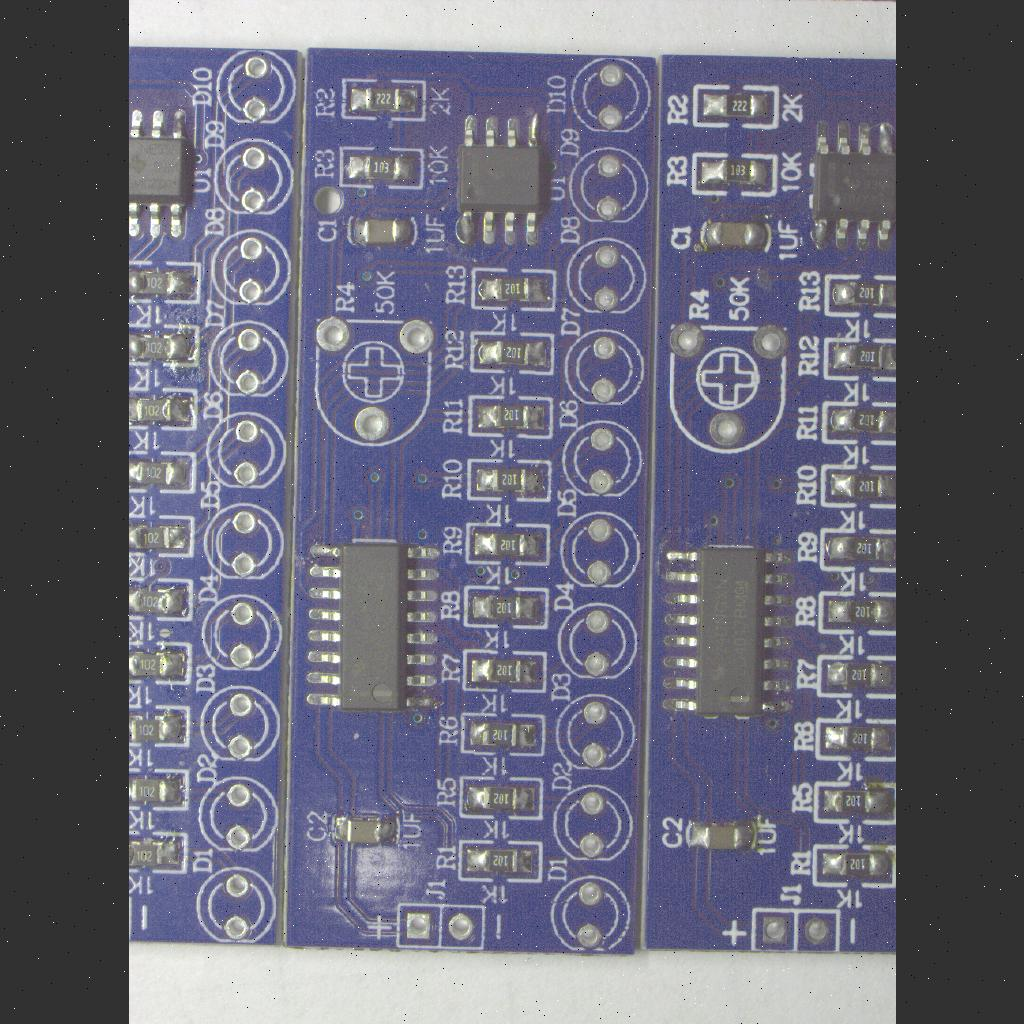OK: (654, 538, 802, 726), (298, 538, 446, 716), (449, 108, 553, 254), (804, 110, 896, 260), (128, 100, 202, 246), (462, 518, 552, 570), (690, 82, 782, 132), (458, 646, 550, 696), (466, 267, 560, 315), (464, 329, 558, 377), (689, 150, 777, 200), (466, 392, 556, 440), (463, 457, 553, 505), (456, 774, 546, 822), (336, 144, 426, 192), (456, 836, 546, 884), (460, 584, 550, 632), (456, 712, 548, 758), (336, 78, 428, 124), (818, 460, 896, 514), (812, 779, 896, 829), (810, 842, 896, 890), (816, 589, 896, 639), (820, 334, 896, 386), (814, 716, 896, 764), (818, 526, 896, 576), (820, 398, 896, 448), (128, 257, 204, 307), (814, 654, 896, 700), (820, 272, 896, 320), (128, 448, 200, 498), (128, 322, 202, 370), (128, 384, 198, 434), (128, 640, 194, 690), (128, 576, 196, 624), (128, 514, 196, 560), (342, 212, 420, 252), (128, 766, 192, 814), (128, 702, 192, 750), (694, 217, 774, 255), (128, 829, 190, 877), (682, 816, 760, 854), (324, 812, 404, 848)
